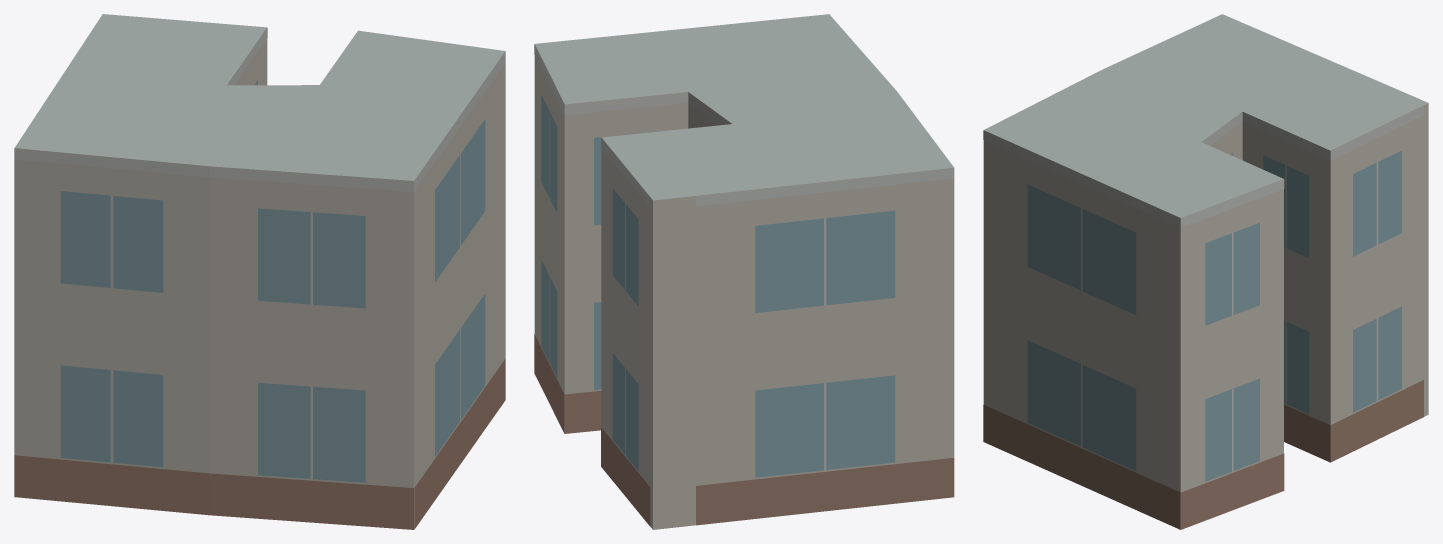
Rendered from survey-upis-32470696.glb.
3 views of the same model, side by side, from view 1: azimuth 30°, elevation 25°; view 2: azimuth 150°, elevation 25°; view 3: azimuth 270°, elevation 25° (orthographic). The views are drawn at different scales.
Visible parts, largest first — view 1: survey-upis-32470696.tmp; view 2: survey-upis-32470696.tmp; view 3: survey-upis-32470696.tmp.
Part boxes in pixels (x1,y1,x2,y2): survey-upis-32470696.tmp: (14,14,505,529); survey-upis-32470696.tmp: (534,14,954,529); survey-upis-32470696.tmp: (983,14,1428,529).
Size of the model in its own units: 10.67 by 7.6 by 9.83.
